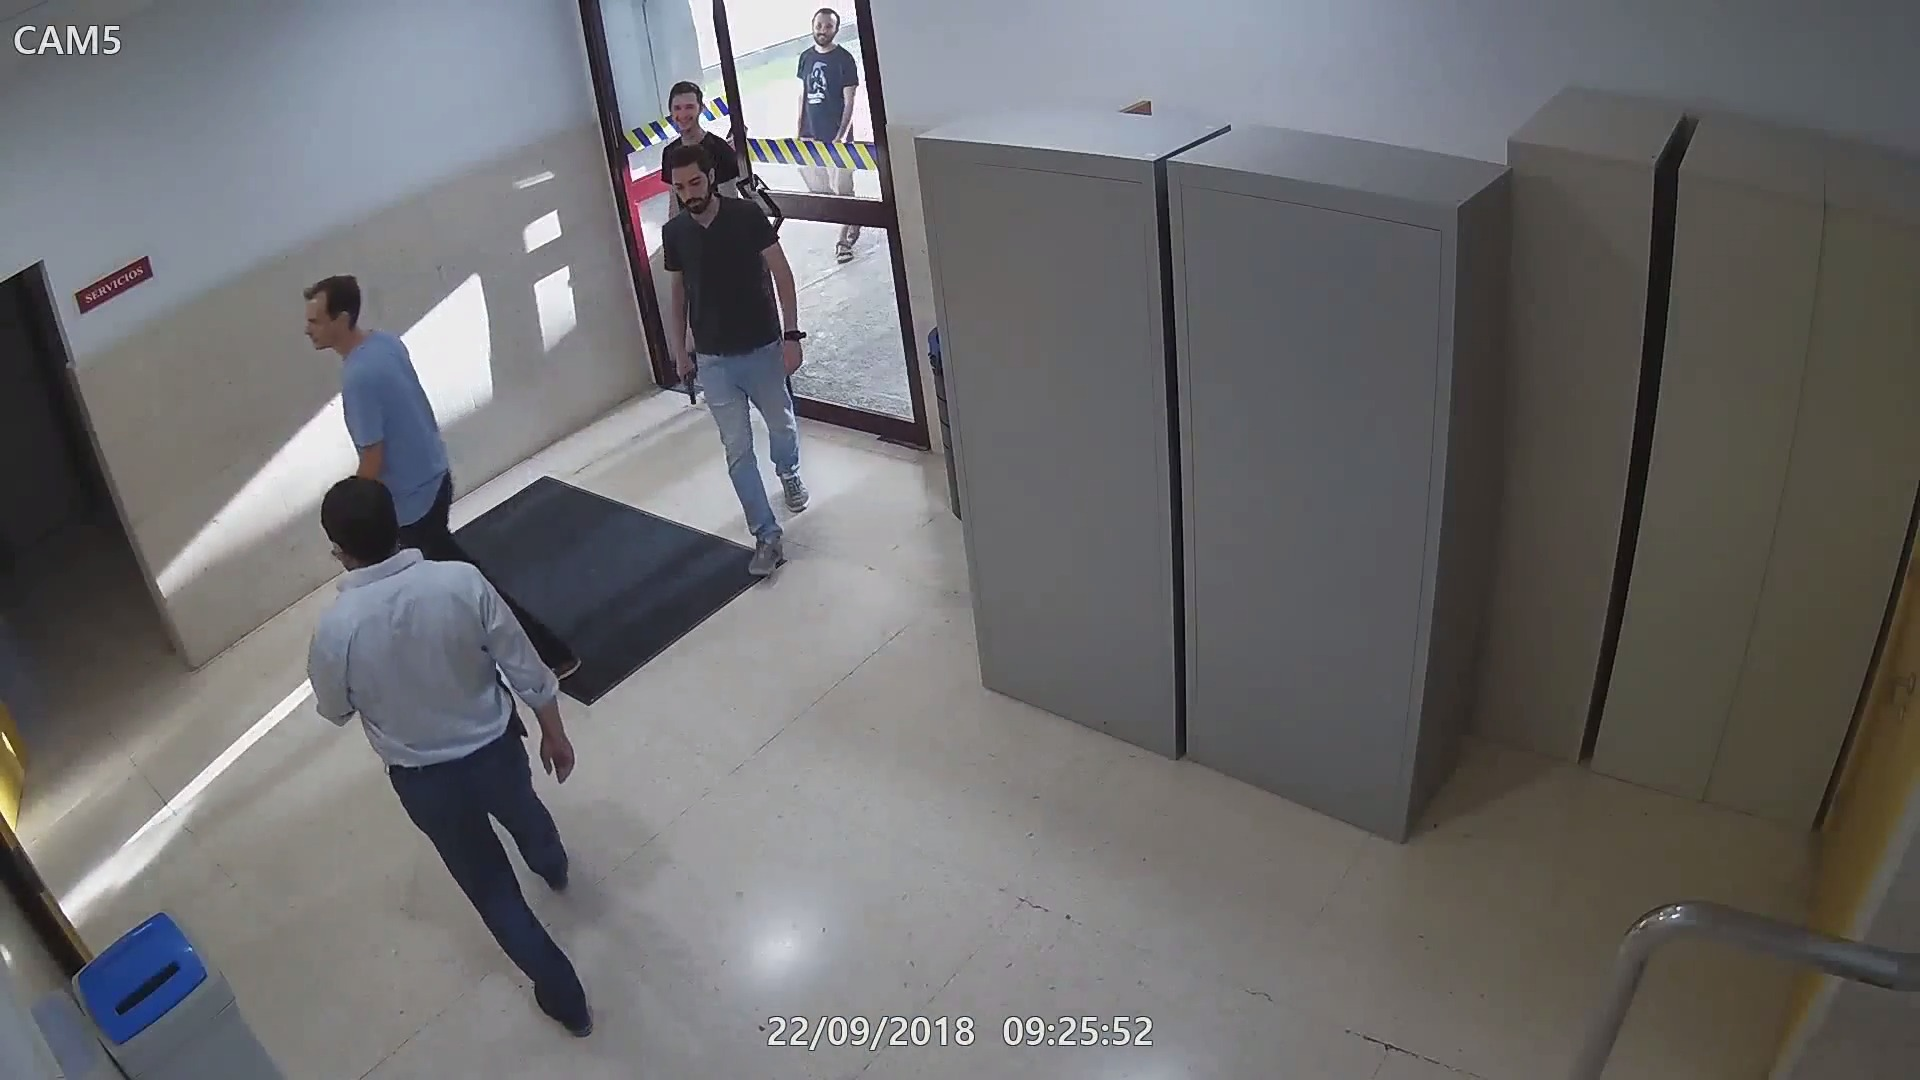Handgun: (491, 658, 524, 731), (671, 352, 702, 415)
